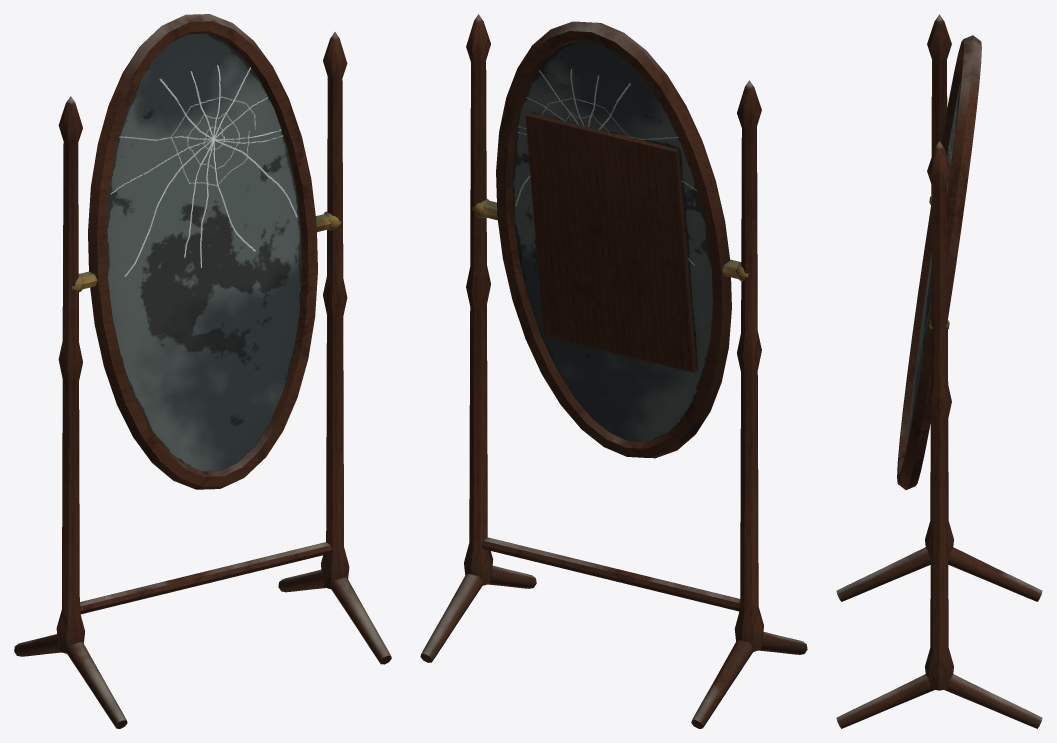
The model's file is StandingMirror.fbx.
The picture shows the model from 3 angles, left to right: view 1: azimuth 30°, elevation 25°; view 2: azimuth 150°, elevation 25°; view 3: azimuth 270°, elevation 25°; orthographic projection. The views are drawn at different scales.
Visible parts, largest first — view 1: StandingMirror; view 2: StandingMirror; view 3: StandingMirror.
Part boxes in pixels (left/top/right/bottom): StandingMirror: left=14, top=14, right=391, bottom=728; StandingMirror: left=420, top=14, right=807, bottom=728; StandingMirror: left=836, top=14, right=1042, bottom=728.
Size of the model in its own units: 2.37 by 4.95 by 1.48.
Materials: 1 (1 with a texture image).
